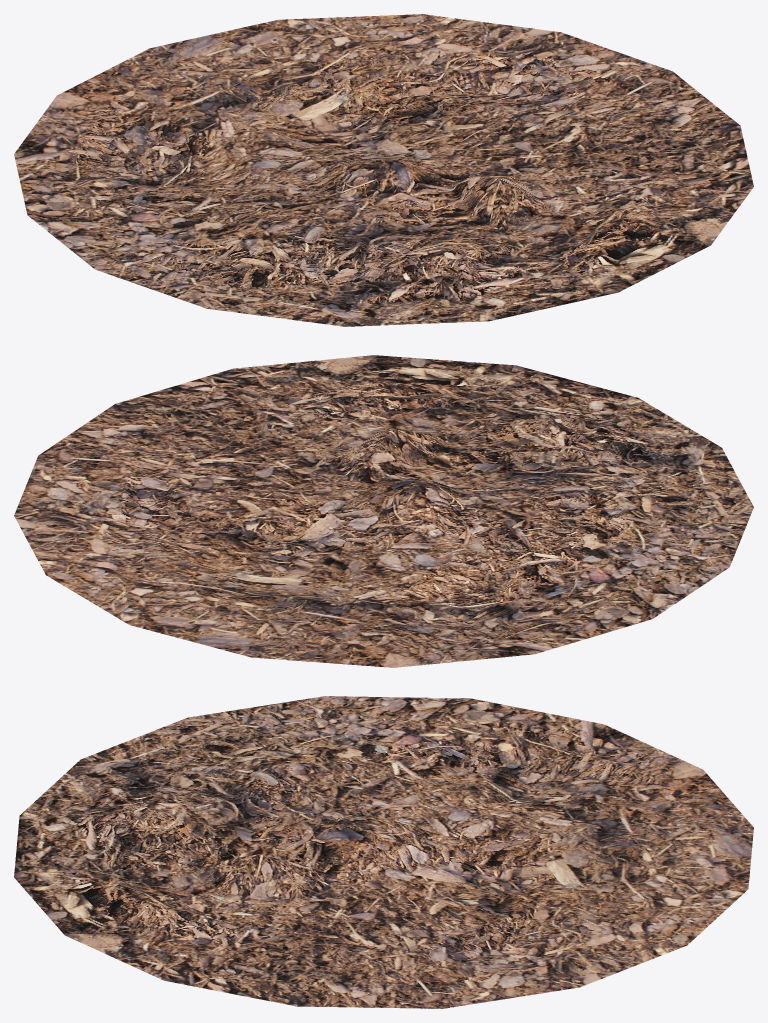
The picture shows the model from 3 angles, top to bottom: view 1: azimuth 30°, elevation 25°; view 2: azimuth 150°, elevation 25°; view 3: azimuth 270°, elevation 25°; orthographic projection.
Visible parts, largest first — view 1: Cylinder; view 2: Cylinder; view 3: Cylinder.
Boxes of the visible parts, box(x1,y1,x2,y2) form: Cylinder: box(14, 14, 753, 326); Cylinder: box(14, 355, 753, 667); Cylinder: box(14, 696, 753, 1008).
Bounding box in the file's own units: 39.09 × 2.53 × 39.09.
Materials: 1 (1 with a texture image).
